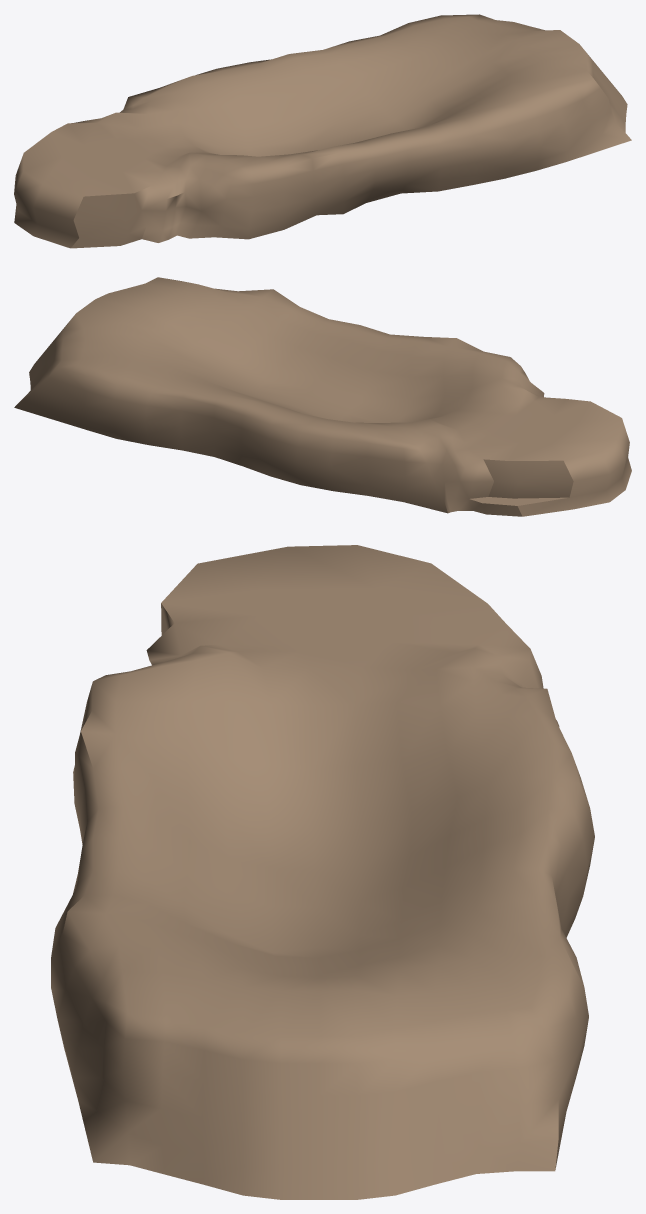
File: Treibsandteich.fbx
3 renders of one model, top to bottom at view 1: azimuth 30°, elevation 25°; view 2: azimuth 150°, elevation 25°; view 3: azimuth 270°, elevation 25°, orthographic. The views are drawn at different scales.
Parts seen in each view (by area): view 1: Treibsandteich; view 2: Treibsandteich; view 3: Treibsandteich.
Boxes of the visible parts, <box> form: Treibsandteich: <box>14,14,631,248</box>; Treibsandteich: <box>14,277,631,516</box>; Treibsandteich: <box>51,545,594,1199</box>.
Size of the model in its own units: 7219 by 889 by 2953.
